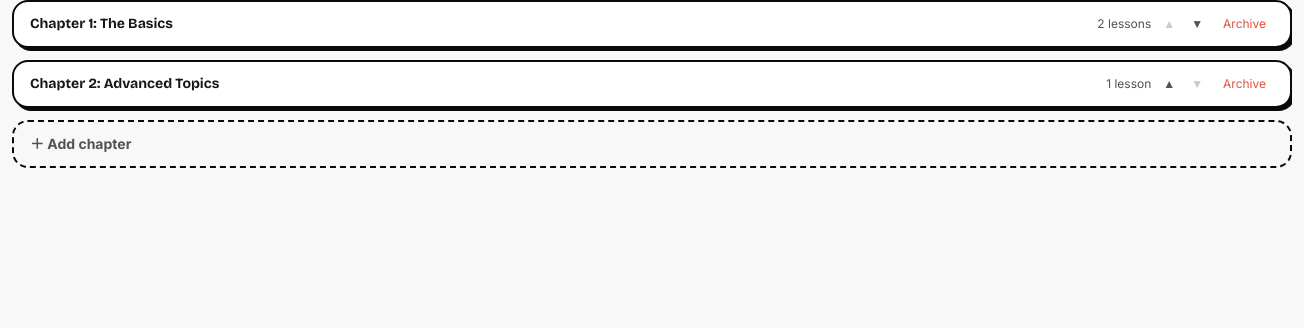
Test case: ChapterList › clicking "＋ Add chapter" shows the add form
Expected: the field labelled "chapter title" is not shown
What coordinates should you click on to do the following:
click the button "＋ Add chapter"
I would click on:
 (81, 144)
Its box is [12,120,1292,168].
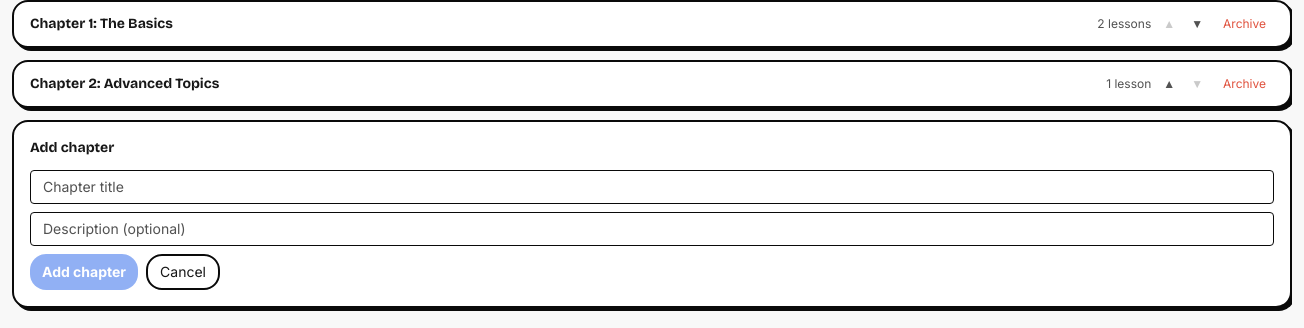
Expected: the field labelled "Chapter title" is shown, [30,170,1274,204]
